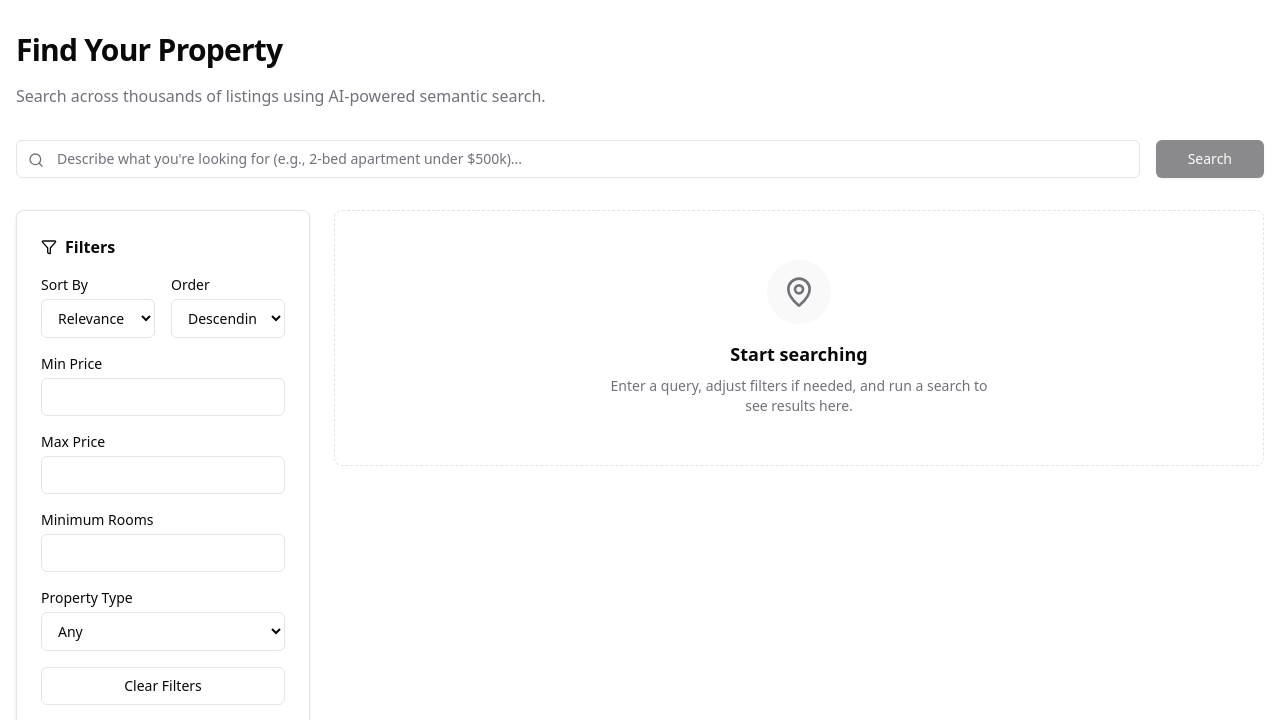
SearchPage › validates min and max price before searching
Replace the text in the field named "Search query" with "Test" at x=578, y=159, box [16, 140, 1140, 178]
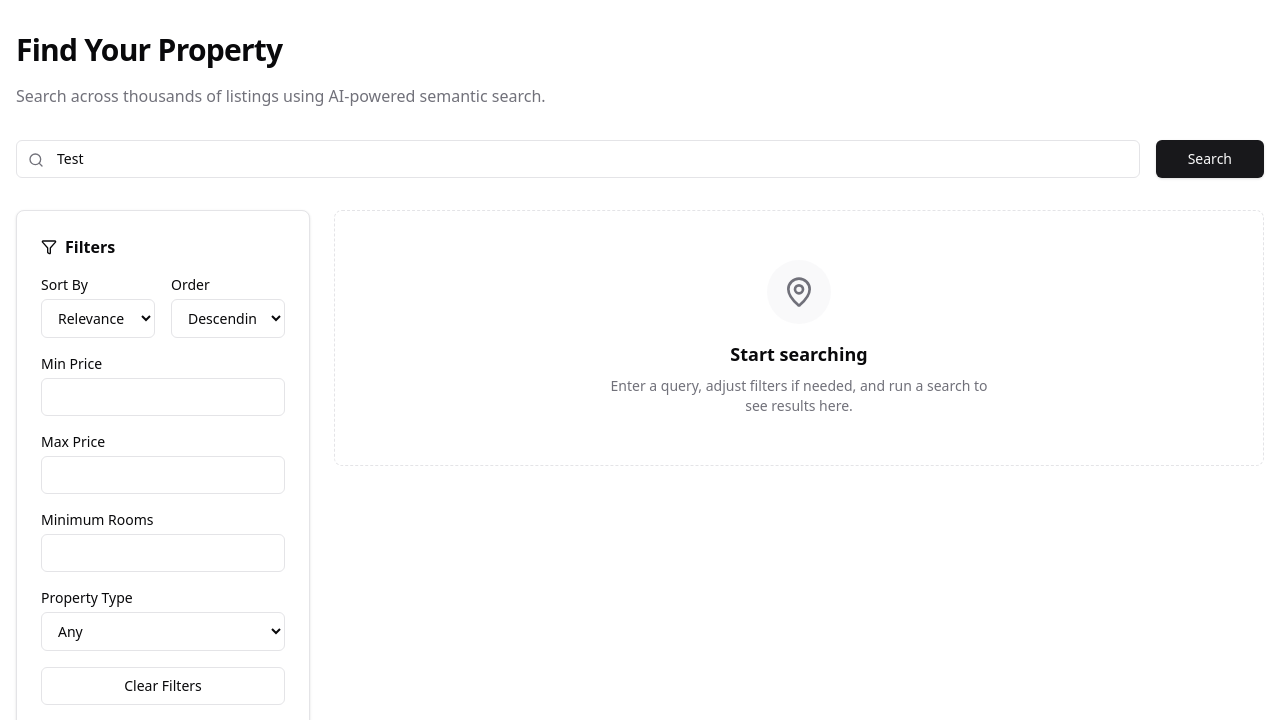
Type "300" into the number field labelled "Min Price" at x=163, y=397, box [41, 378, 285, 416]
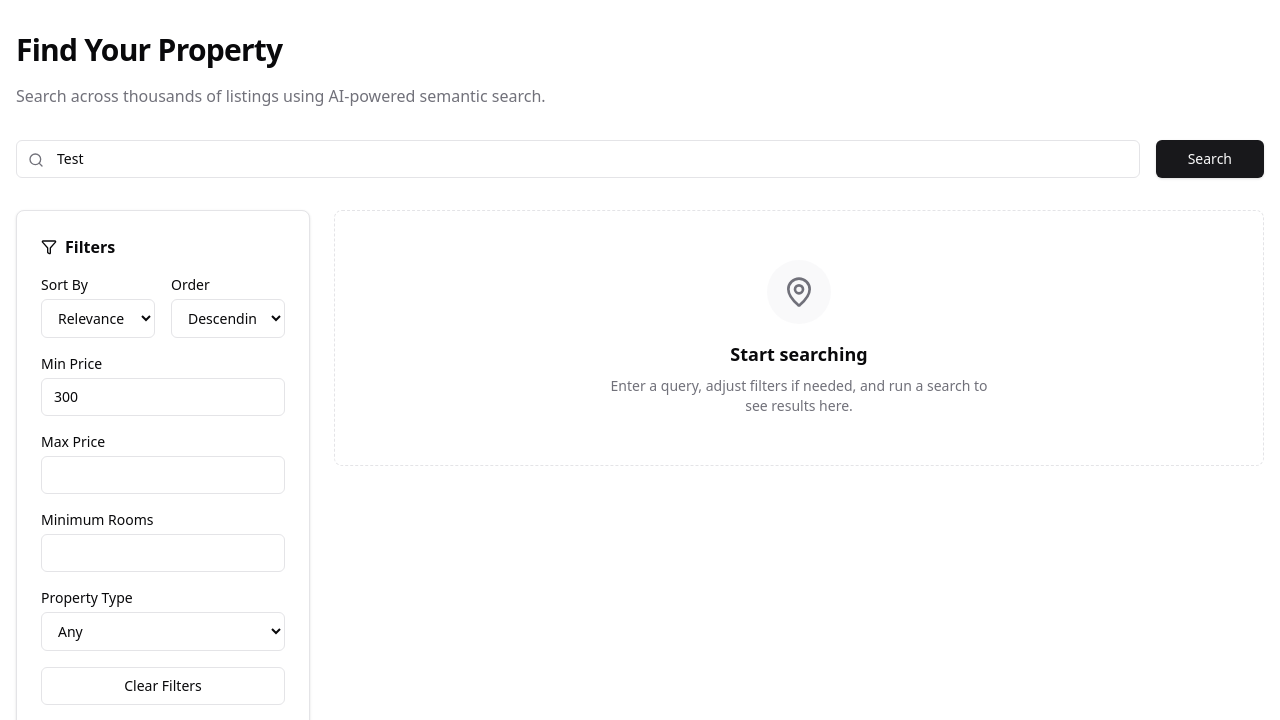
Type "200" into the number field labelled "Max Price" at x=163, y=475, box [41, 456, 285, 494]
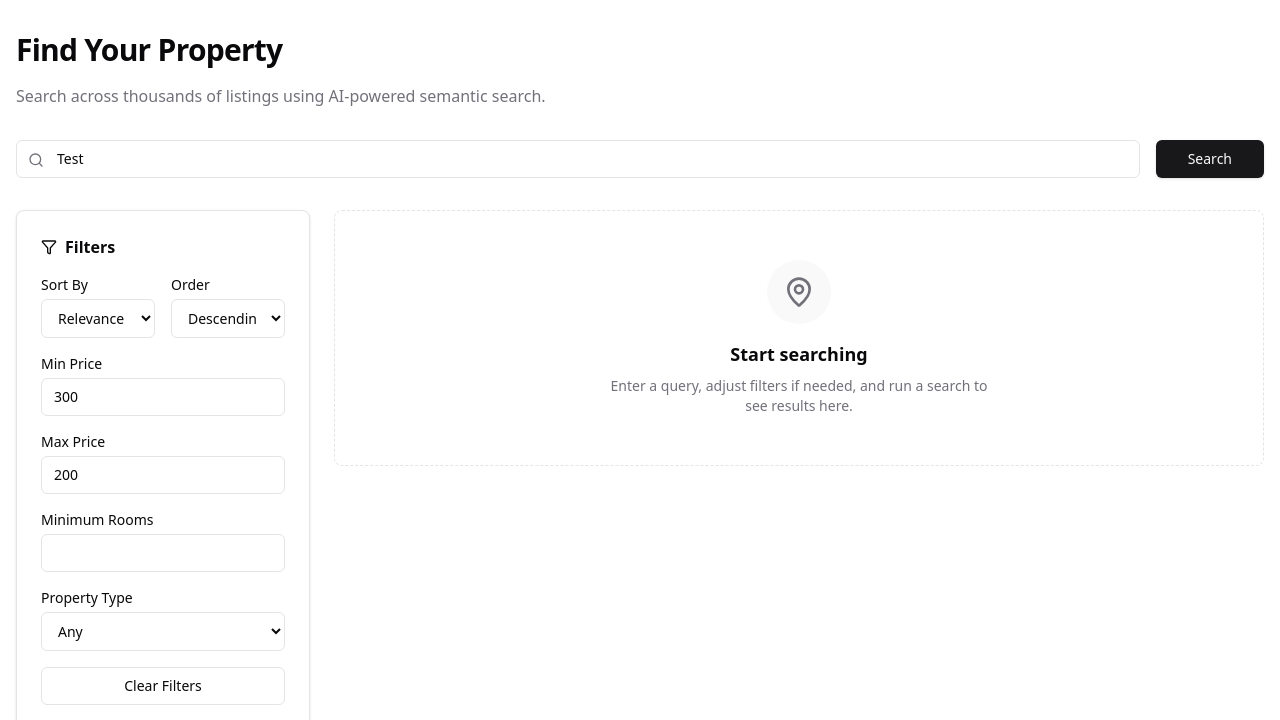
Click the button "Search" at x=1210, y=159, box [1156, 140, 1264, 178]
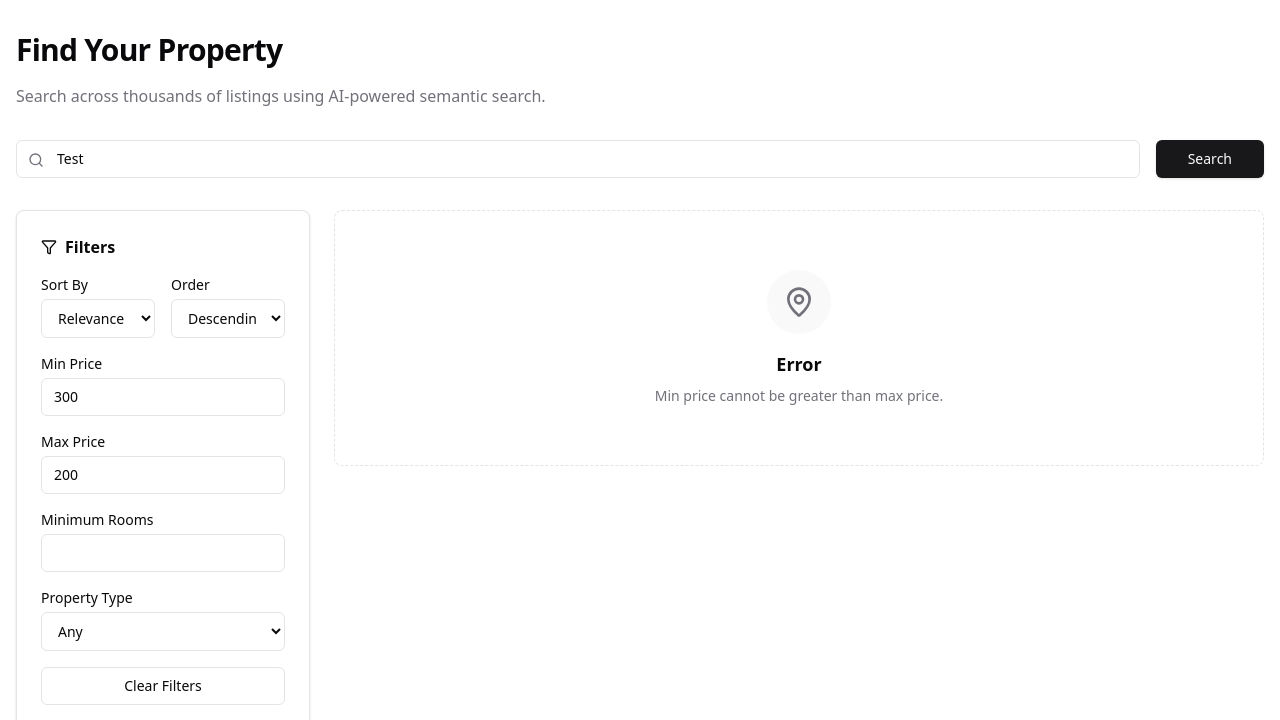
Check: the heading "Error" is shown, box [776, 350, 822, 378]
Check: the text "Min price cannot be greater than max price." is shown, box [655, 386, 943, 406]
